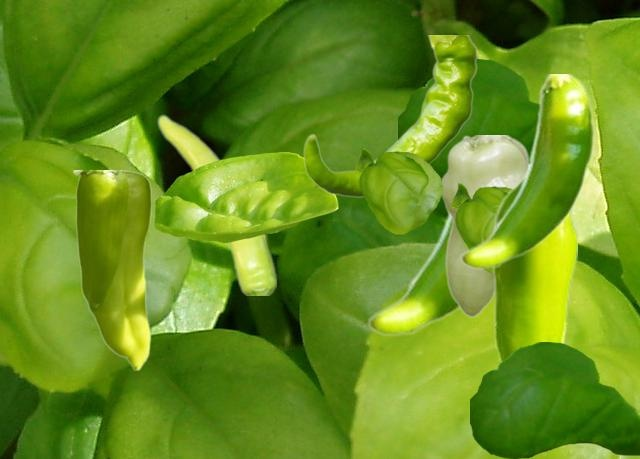green_chili: (303, 35, 477, 198), (459, 74, 594, 269), (157, 113, 275, 294), (492, 176, 576, 364), (441, 135, 528, 316), (72, 170, 150, 369), (366, 211, 459, 336)
